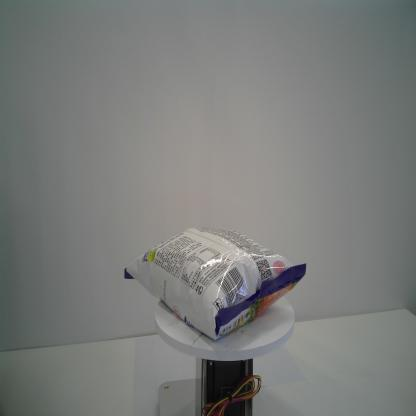Puffed Food: (123, 222, 307, 343)
